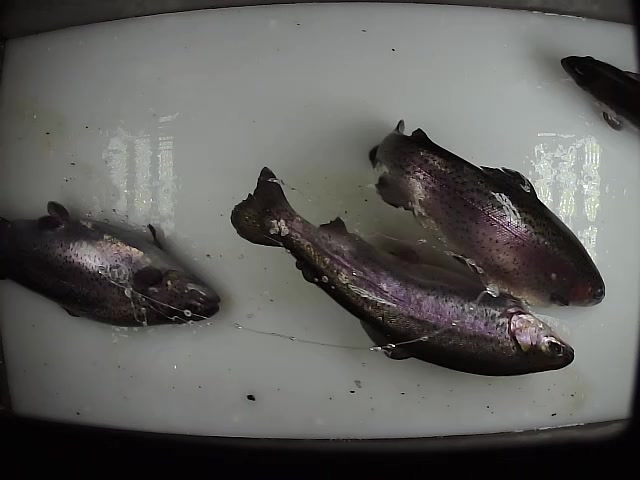fish: (227, 163, 576, 379), (366, 115, 608, 310), (2, 199, 223, 329)
